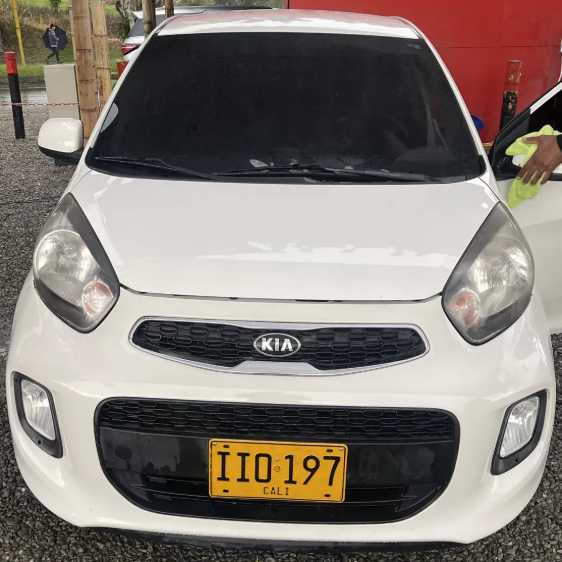placa: (208, 439, 350, 505)
